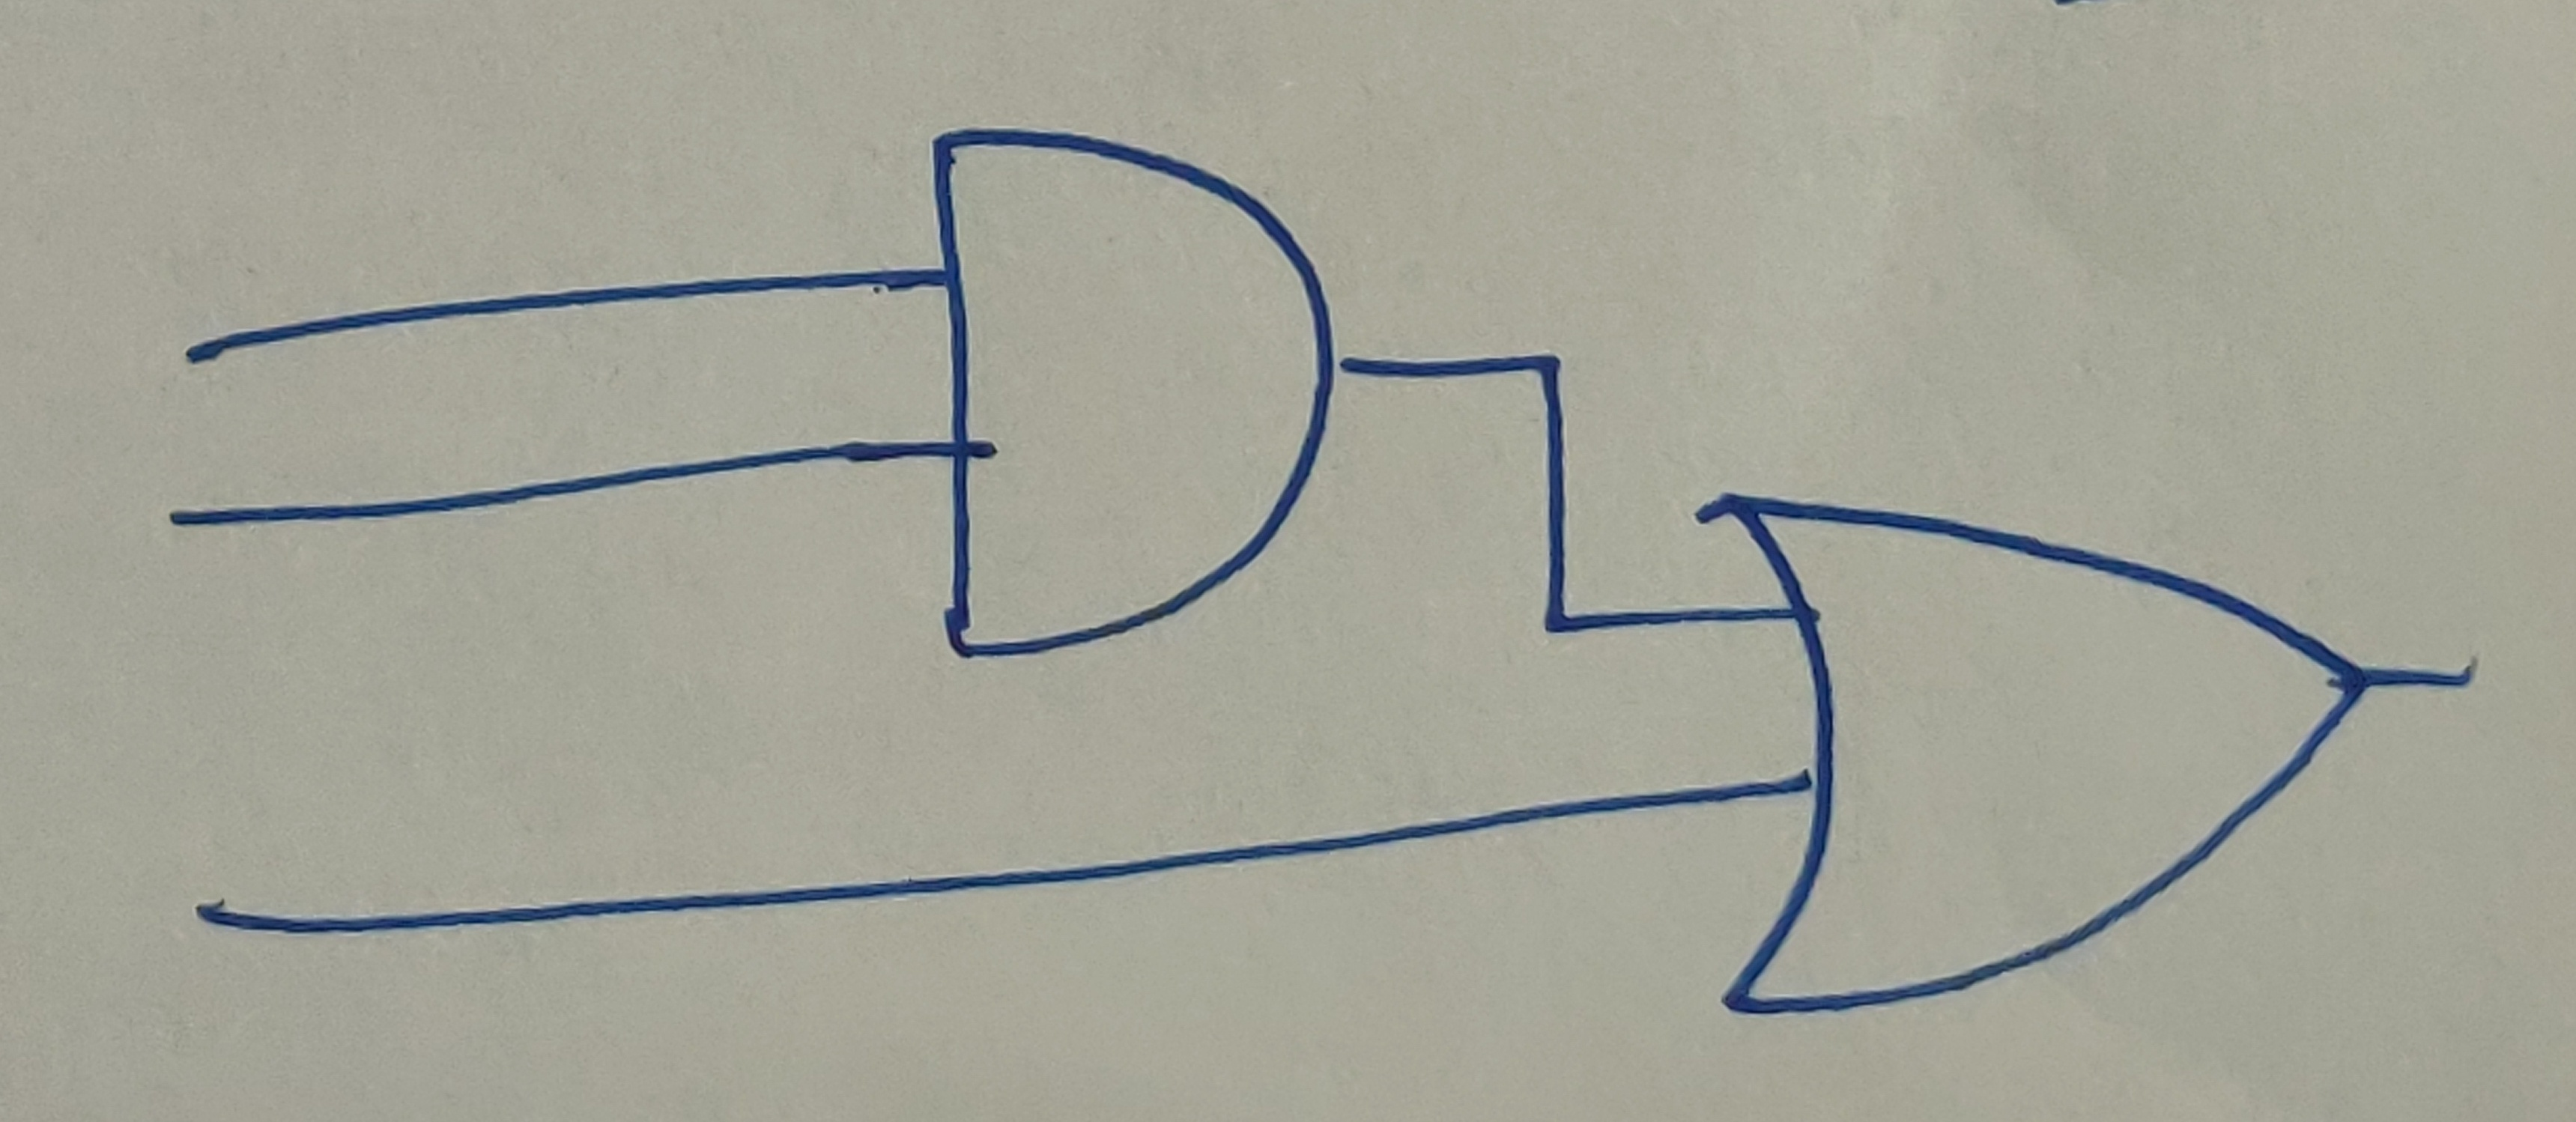and: (927, 123, 1347, 657)
or: (1697, 488, 2371, 1027)
